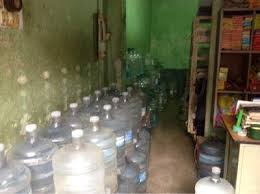plastic: (27, 85, 112, 192), (108, 76, 153, 190)
